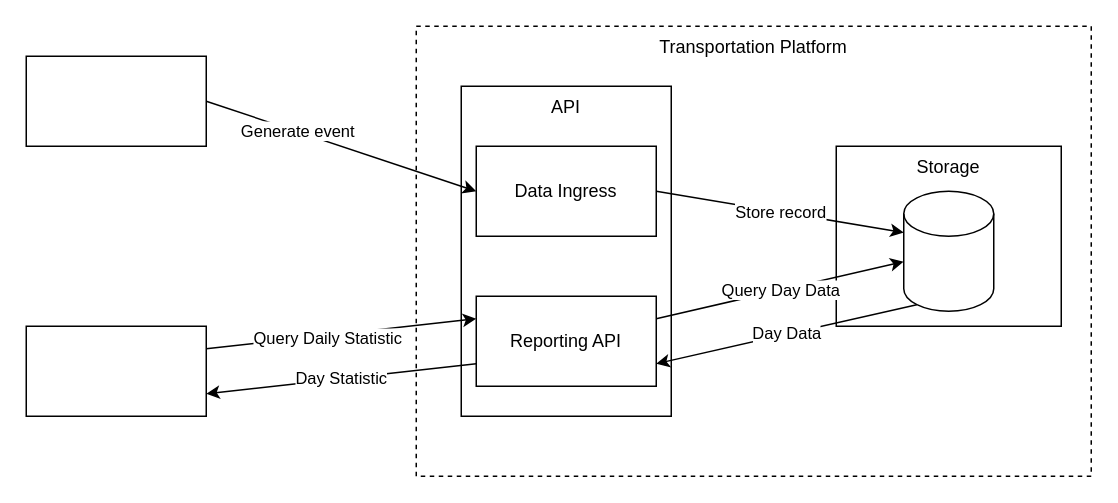
This 1118x503 diagram has some shape labels left out. The centre of each missing label's shape, as x and y in pixels:
"Client Device" belongs at (x=115, y=100).
"Records Table" belongs at (x=948, y=250).
"Reporting Frontend" belongs at (x=115, y=370).
